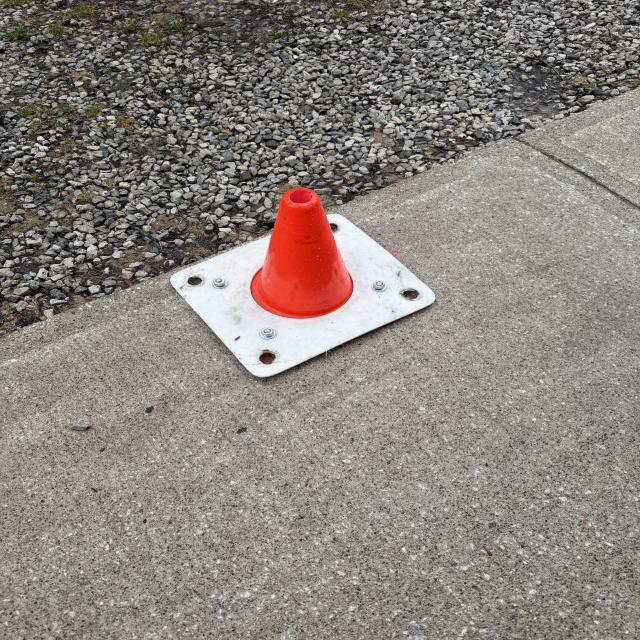Traffic Cone: (165, 183, 437, 378)
